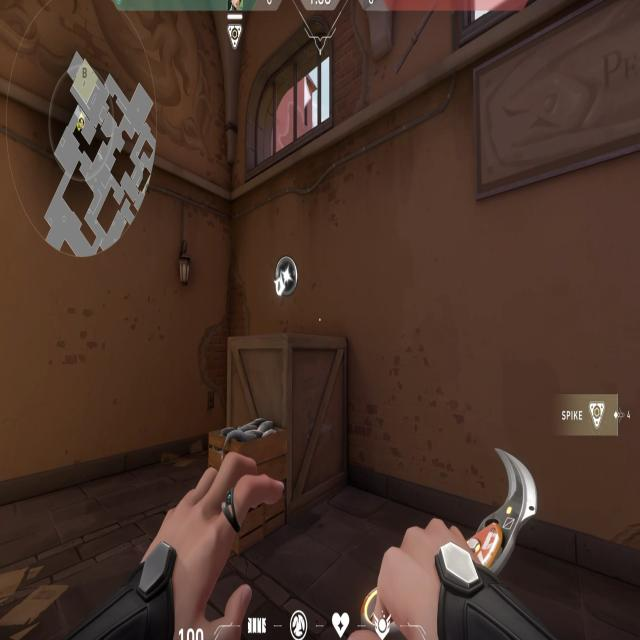B_Main_Wallbang: (214, 228, 353, 554)
Throwables: (235, 31, 348, 174)
